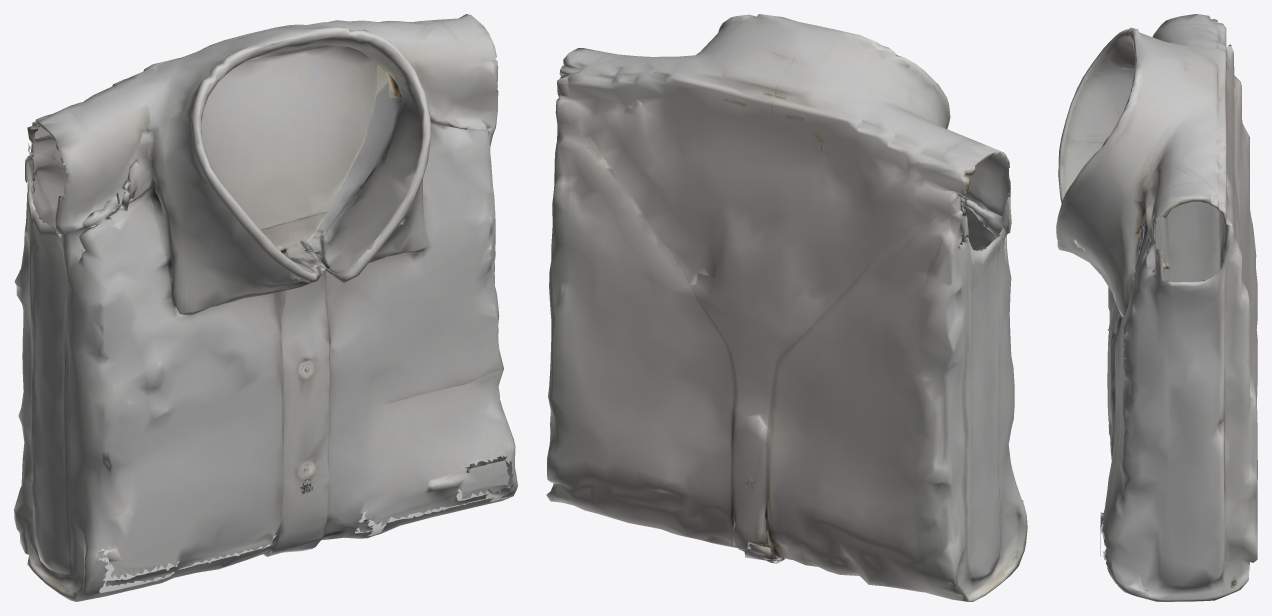
File: Folded_Elegance_0730183147_texture.fbx
3 views of the same model, side by side, from view 1: azimuth 30°, elevation 25°; view 2: azimuth 150°, elevation 25°; view 3: azimuth 270°, elevation 25° (orthographic). The views are drawn at different scales.
Parts seen in each view (by area): view 1: Mesh1.0; view 2: Mesh1.0; view 3: Mesh1.0.
Part boxes in pixels (box(x1,y1,x2,y2)): Mesh1.0: box(14, 14, 517, 601); Mesh1.0: box(546, 14, 1027, 601); Mesh1.0: box(1056, 14, 1257, 601).
Size of the model in its own units: 179 by 201 by 80.15.
Materials: 1 (1 with a texture image).
